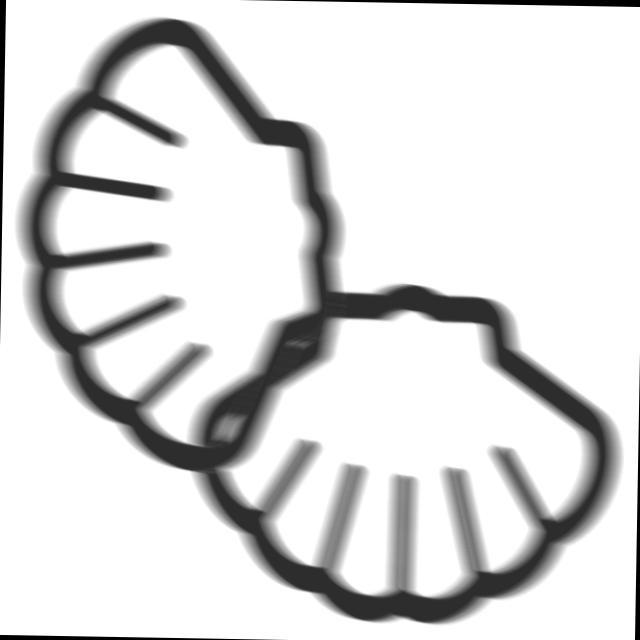shell: (4, 7, 360, 489), (180, 269, 635, 636)
